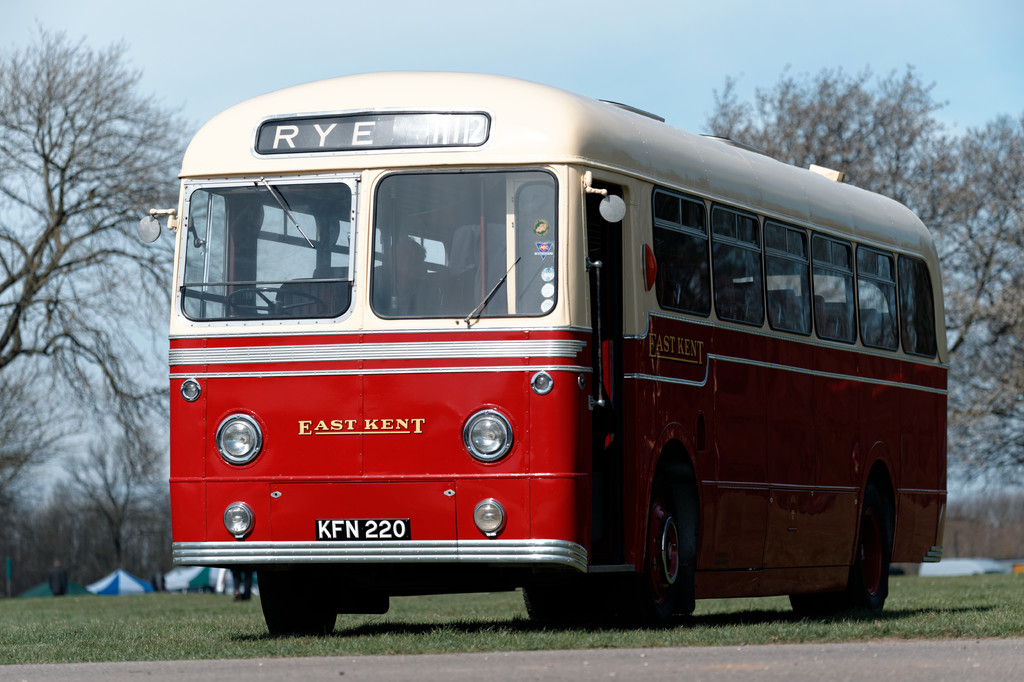Bus: (137, 70, 948, 636)
